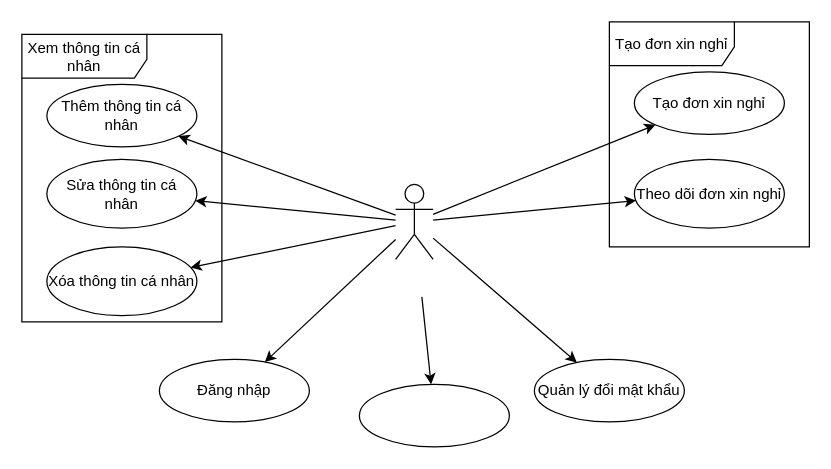
This 831x469 diagram has some shape labels left out. Here are the shapes that lost their labels. From the top down, the centre of each, then its label:
At point (413, 221): "Nhân viên".
At point (433, 415): "Quản lý chấm công".
